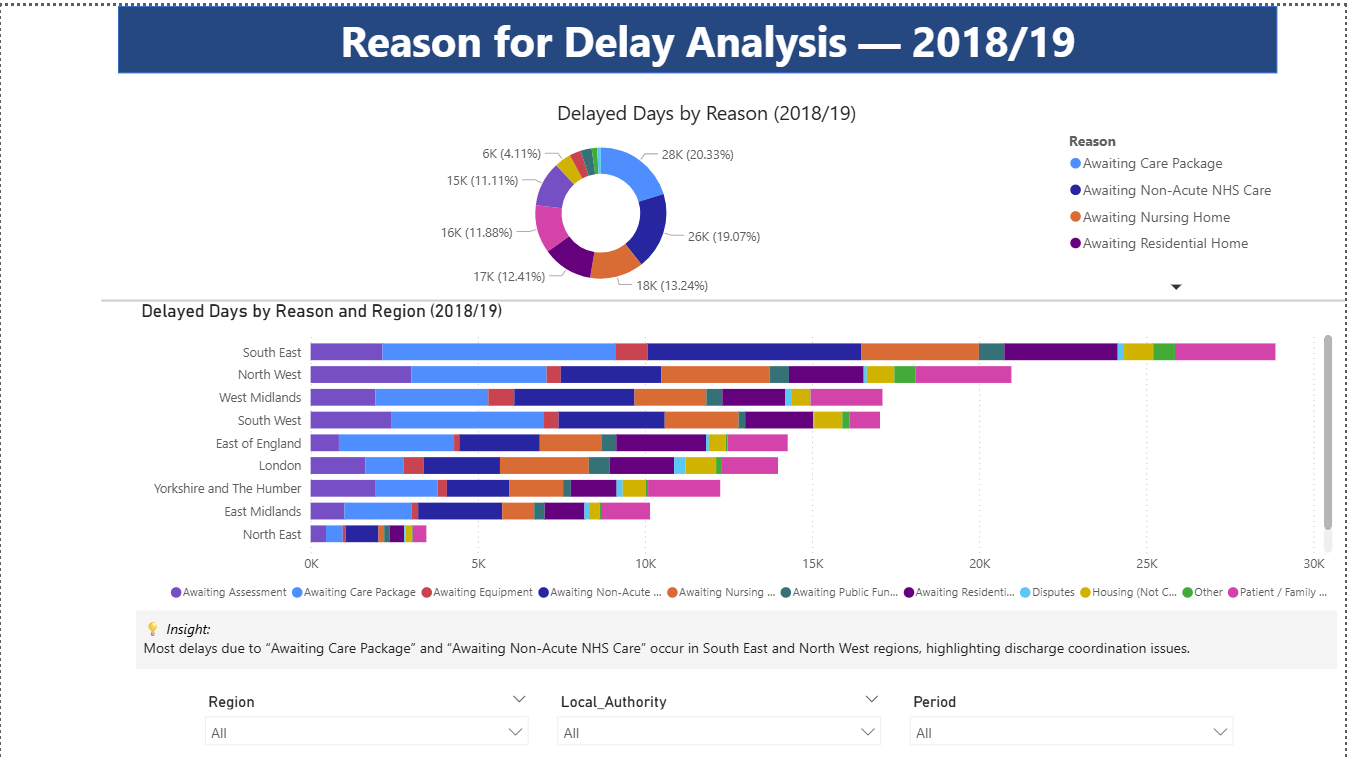

What the dashboard file says about the page in this screenshot:
{"tool":"powerbi","page":{"name":"Reason for Delay Analysis","canvas":[1280,720],"ordinal":3},"visuals":[{"type":"slicer","fields":{"Values":["LA - by type of care.Region"]},"box":[184,648,328,64],"z":0,"group":"g1"},{"type":"shape","box":[112,0,1104,64],"z":0},{"type":"slicer","fields":{"Values":["LA - by type of care.Local_Authority"]},"box":[520,648,328,71.1],"z":1000,"group":"g1"},{"type":"donutChart","title":"Delayed Days by Reason (2018/19)","fields":{"Category":["LA - by reason.Reason","Responsible Type.Responsible"],"Y":["Sum(LA - by reason.Delayed_Days)"]},"box":[112,64,1168,192],"z":1000},{"type":"slicer","fields":{"Values":["LA - by type of care.Period"]},"box":[856,648,328,72],"z":2000,"group":"g1"},{"type":"barChart","title":"Delayed Days by Reason and Region (2018/19)","fields":{"Series":["LA - by reason.Reason"],"Category":["LA - by reason.Region"],"Y":["Sum(LA - by reason.Delayed_Days)"]},"box":[128,280,1144,296],"z":2000},{"type":"textbox","box":[128,576,1144,56],"z":3000},{"type":"group","id":"g1","title":"Group 2","box":[184,648,1000,72],"z":4000},{"type":"shape","box":[112,96,1168,336],"z":5000}]}

Visuals, with their boxes in screenshot pixels (x1, y1, x2, y2), scaled from the page's 1280x720 canvas onto the 1347x760 screenshot:
slicer - LA - by type of care.Region: region(194, 684, 539, 752)
shape: region(118, 0, 1280, 68)
slicer - LA - by type of care.Local_Authority: region(547, 684, 892, 759)
"Delayed Days by Reason (2018/19)" donutChart: region(118, 68, 1346, 270)
slicer - LA - by type of care.Period: region(901, 684, 1246, 759)
"Delayed Days by Reason and Region (2018/19)" barChart: region(135, 296, 1339, 608)
textbox: region(135, 608, 1339, 667)
"Group 2" group: region(194, 684, 1246, 759)
shape: region(118, 101, 1346, 456)
